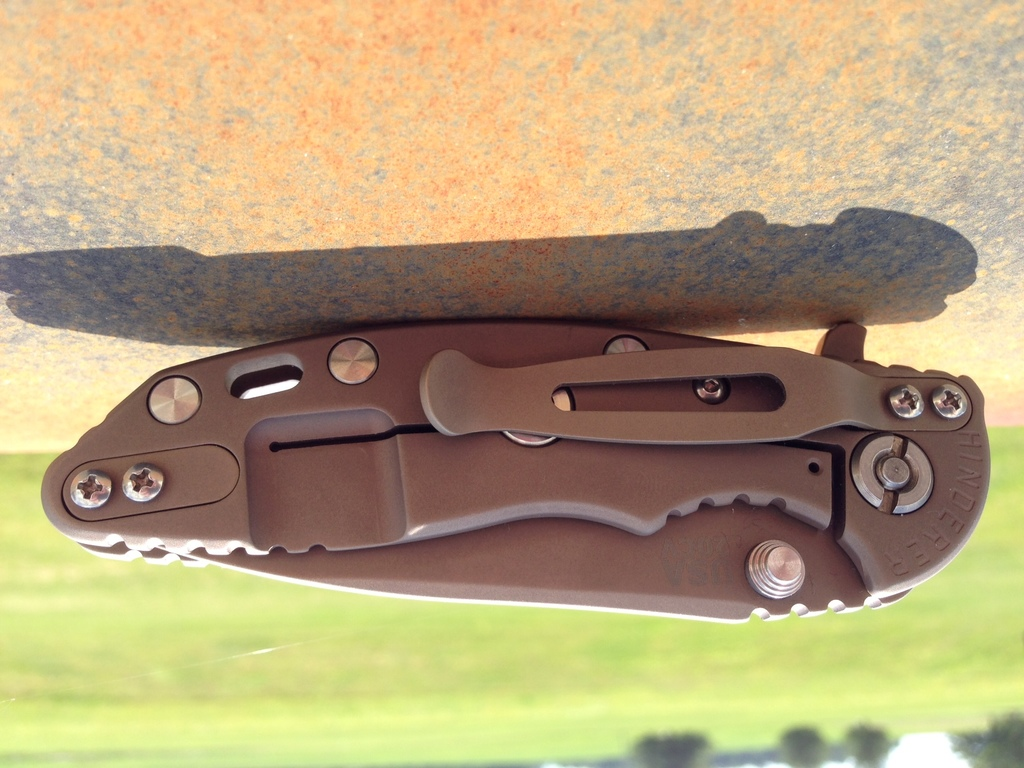knife: (40, 320, 990, 624)
